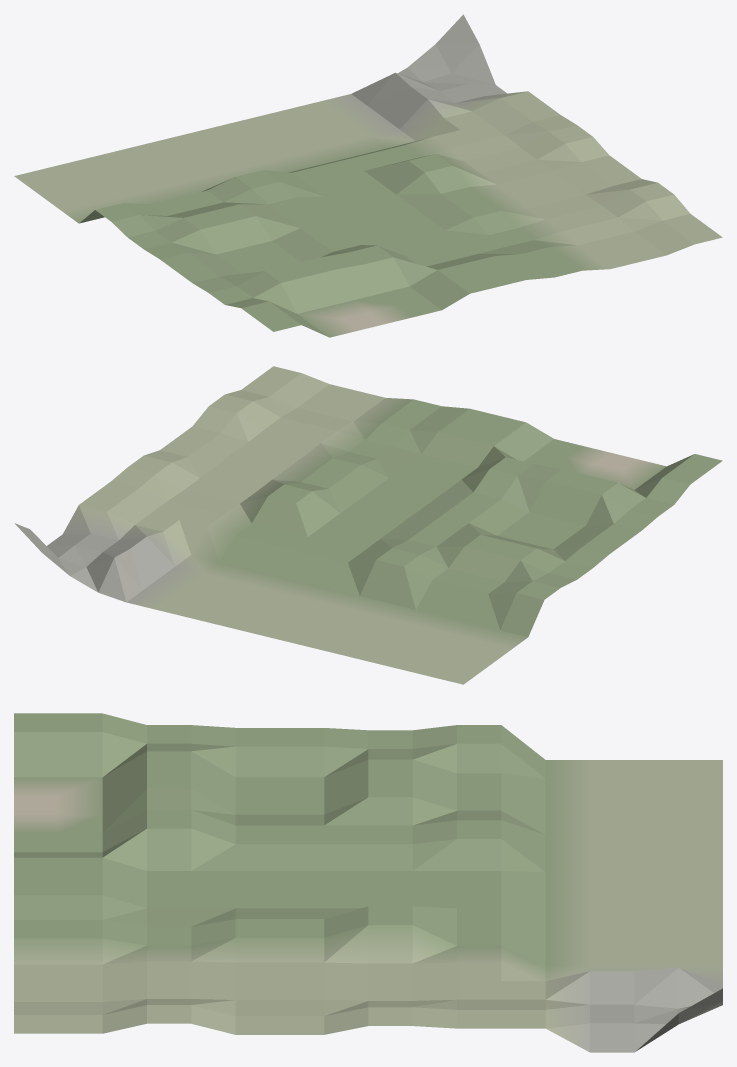
The picture shows the model from 3 angles, top to bottom: view 1: azimuth 30°, elevation 25°; view 2: azimuth 150°, elevation 25°; view 3: azimuth 270°, elevation 25°; orthographic projection. The views are drawn at different scales.
Bounding box in the file's own units: 32 × 3.55 × 32.
